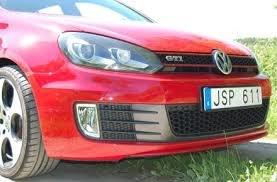license-plates: (204, 88, 262, 112)
